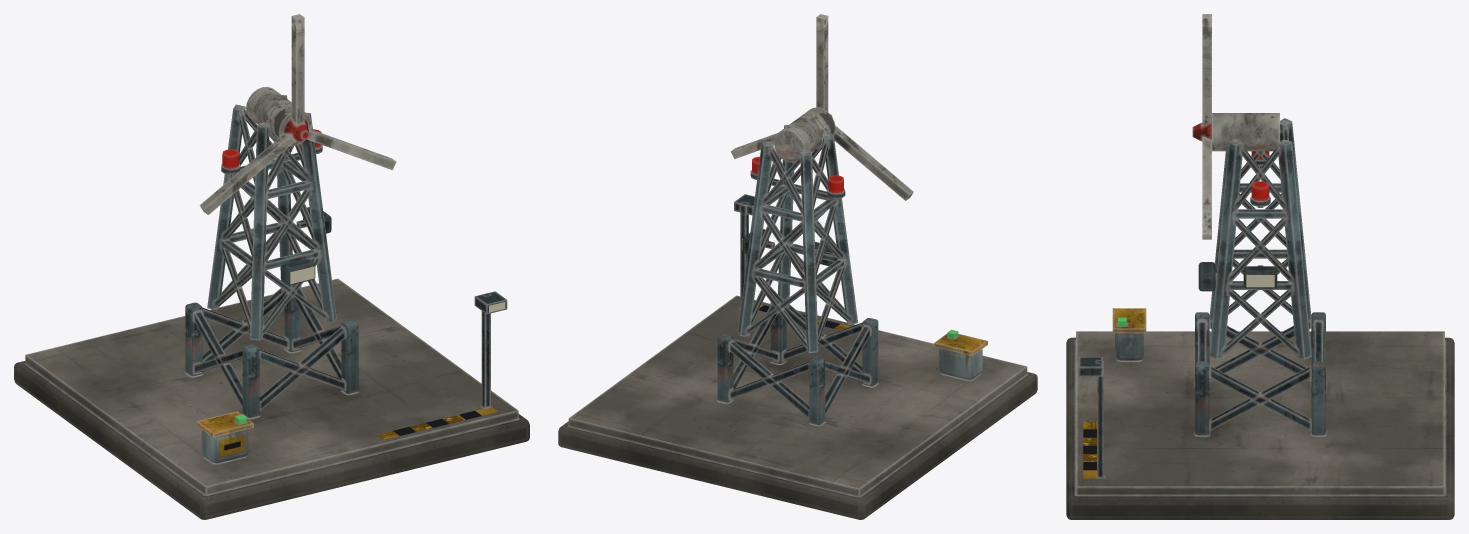
Rendered from wind_turbine.glb.
3 renders of one model, left to right at view 1: azimuth 30°, elevation 25°; view 2: azimuth 150°, elevation 25°; view 3: azimuth 270°, elevation 25°, orthographic. The views are drawn at different scales.
Visible parts, largest first — view 1: te_wind_turbine, move_rotor; view 2: te_wind_turbine, move_rotor; view 3: te_wind_turbine, move_rotor.
Boxes of the visible parts, x1,y1,x2,y2 form: te_wind_turbine: (14, 86, 529, 519); move_rotor: (199, 14, 396, 214); te_wind_turbine: (558, 107, 1037, 519); move_rotor: (731, 14, 913, 200); te_wind_turbine: (1066, 113, 1454, 519); move_rotor: (1192, 14, 1211, 239).
Bounding box in the file's own units: 0.8 × 0.964 × 0.8.
1 material, 1 textured.
